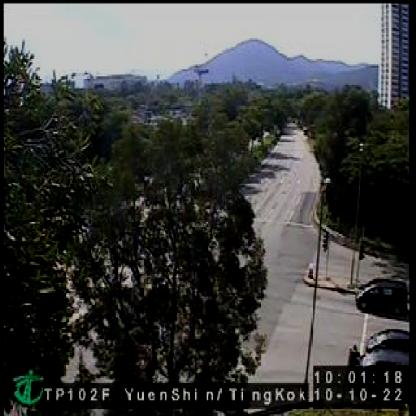Car: (351, 332, 410, 375), (357, 276, 406, 318)
